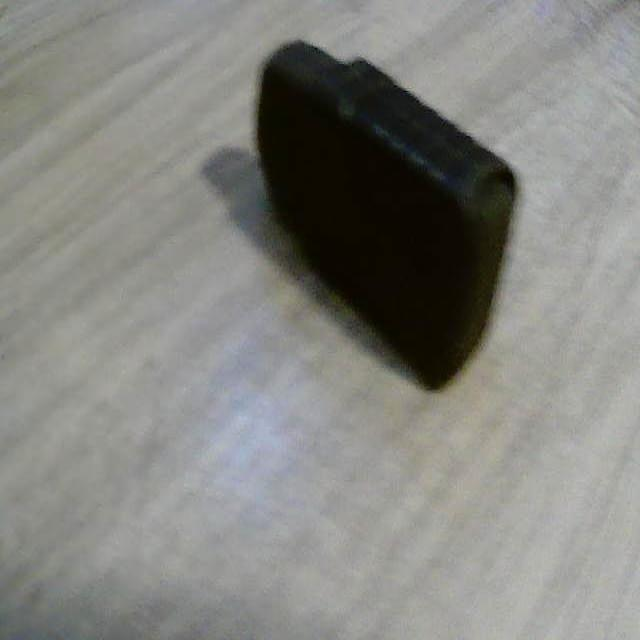borracha: (240, 22, 548, 433)
